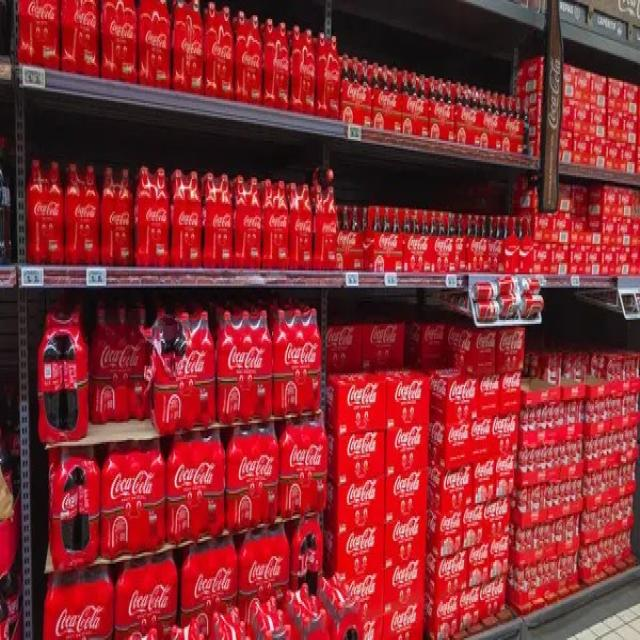coca cola: (174, 448, 228, 498), (110, 462, 160, 514), (222, 331, 268, 384)
